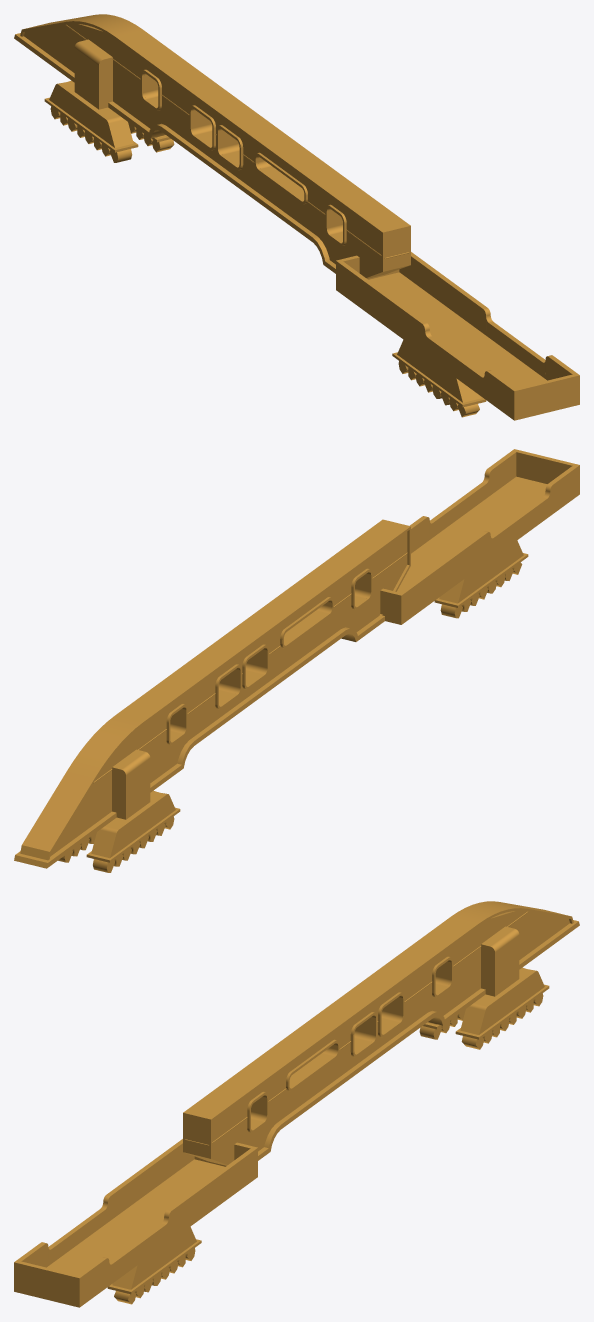
Rendered from ironmonster3.fbx.
3 renders of one model, top to bottom at view 1: azimuth 30°, elevation 25°; view 2: azimuth 150°, elevation 25°; view 3: azimuth 330°, elevation 25°, orthographic.
Visible parts, largest first — view 1: Object_2, Object_12, Object_1, Object_56, Object_55, Object_74, Object_84, Object_58, Object_26, Object_59, Object_57, Object_60 (+3 smaller); view 2: Object_2, Object_1, Object_12, Object_56, Object_55, Object_74, Object_84, Object_58, Object_26, Object_57, Object_59, Object_60 (+3 smaller); view 3: Object_2, Object_12, Object_1, Object_56, Object_55, Object_72, Object_75, Object_58, Object_24, Object_59, Object_57, Object_60 (+3 smaller).
Boxes of the visible parts, x1,y1,x2,y2 form: Object_2: (24, 17, 408, 278); Object_12: (336, 252, 579, 415); Object_1: (20, 14, 410, 278); Object_56: (336, 272, 579, 420); Object_55: (323, 260, 535, 387); Object_74: (49, 80, 133, 147); Object_84: (74, 39, 112, 109); Object_58: (149, 123, 329, 265); Object_26: (397, 339, 481, 402); Object_59: (254, 152, 307, 204); Object_57: (14, 33, 151, 138); Object_60: (216, 125, 243, 170); Object_2: (23, 520, 407, 859); Object_1: (20, 519, 410, 860); Object_12: (380, 449, 579, 619); Object_56: (385, 476, 579, 624); Object_55: (355, 479, 546, 641); Object_74: (91, 790, 175, 858); Object_84: (112, 749, 150, 819); Object_58: (177, 627, 357, 769); Object_26: (439, 540, 523, 603); Object_57: (14, 763, 184, 868); Object_59: (280, 597, 333, 648); Object_60: (242, 644, 268, 689); Object_2: (185, 905, 569, 1165); Object_12: (14, 1139, 257, 1302); Object_1: (183, 901, 573, 1165); Object_56: (14, 1159, 257, 1307); Object_55: (58, 1147, 270, 1274); Object_72: (460, 967, 544, 1034); Object_75: (481, 926, 519, 996); Object_58: (264, 1010, 445, 1153); Object_24: (112, 1226, 196, 1289); Object_59: (286, 1039, 339, 1091); Object_57: (442, 920, 579, 1025); Object_60: (350, 1012, 377, 1057).
Size of the model in its own units: 14 by 191 by 23.12.
